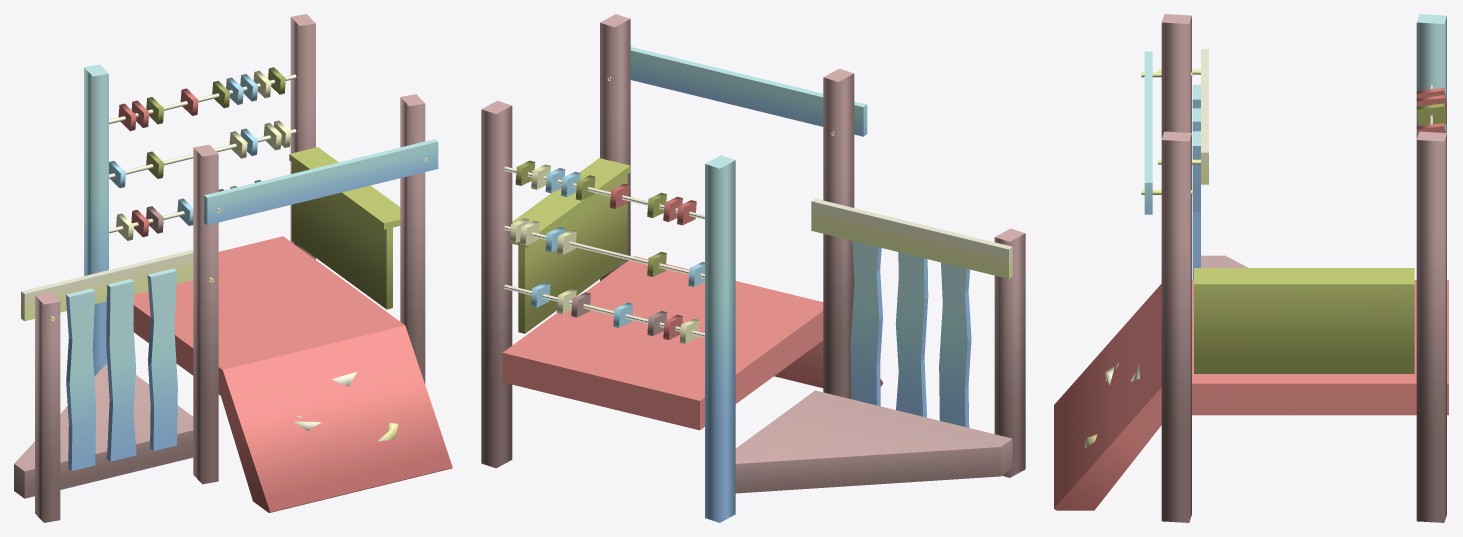
Rendered from playground.lod1.glb.
The picture shows the model from 3 angles, left to right: view 1: azimuth 30°, elevation 25°; view 2: azimuth 150°, elevation 25°; view 3: azimuth 270°, elevation 25°; orthographic projection. The views are drawn at different scales.
Visible parts, largest first — view 1: plac_zabaw_Material #37_0; view 2: plac_zabaw_Material #37_0; view 3: plac_zabaw_Material #37_0.
Boxes of the visible parts, box(x1,y1,x2,y2) form: plac_zabaw_Material #37_0: box(14, 14, 452, 522); plac_zabaw_Material #37_0: box(481, 14, 1025, 522); plac_zabaw_Material #37_0: box(1054, 14, 1448, 522).
Size of the model in its own units: 8.98 by 7.22 by 6.77.
1 material, 1 textured.
